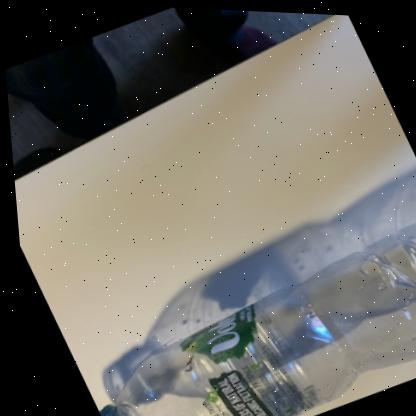Plastic: (91, 219, 416, 416)
